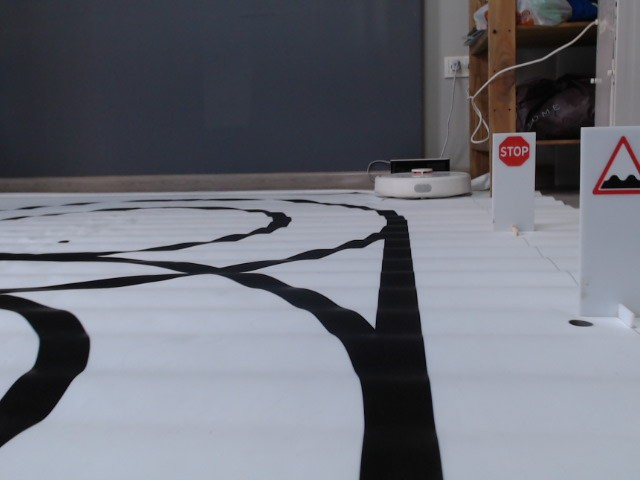Nerov: (592, 135, 640, 197)
Stop: (498, 134, 530, 167)
